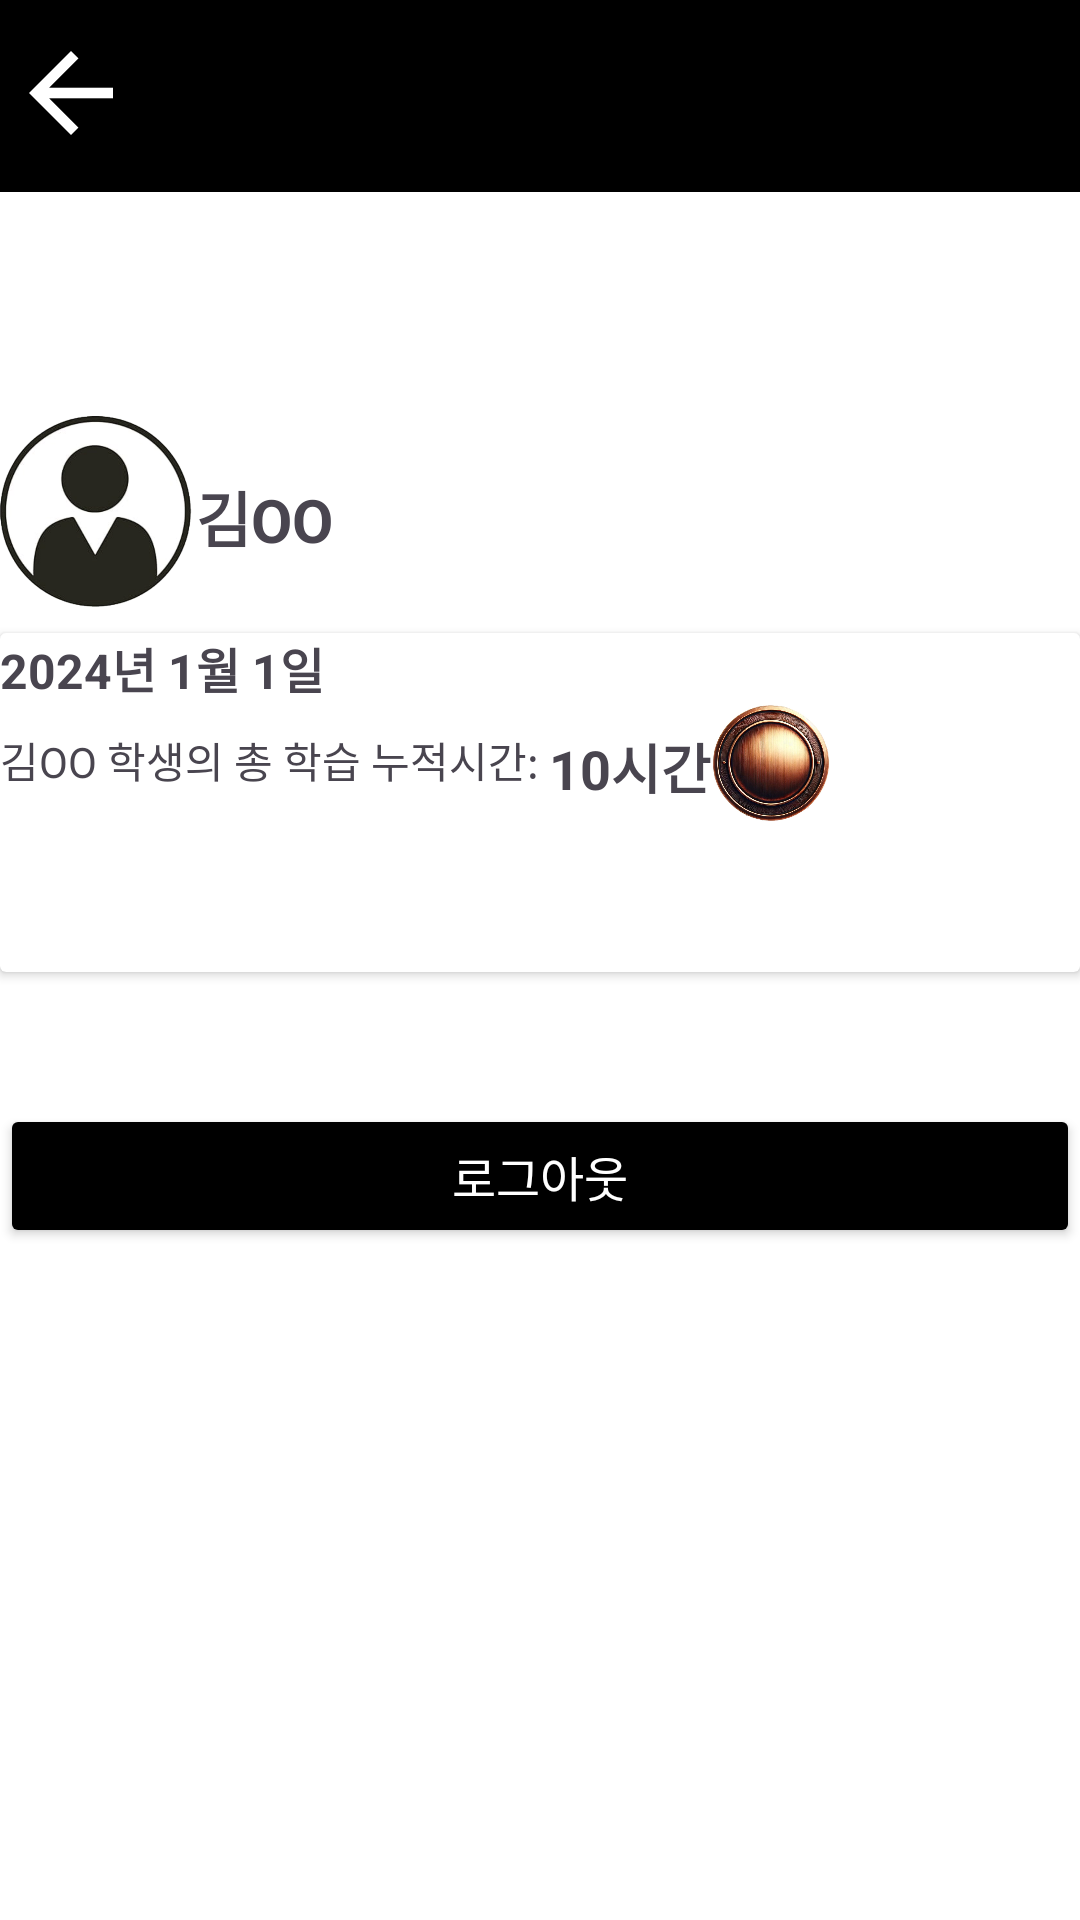

Locate icon controls on the screen. Image size 1080×1920, boxes as rect(x1, y1, x2, y2).
arrowback: rect(29, 51, 113, 135)
티어 이미지: rect(713, 705, 829, 821)
